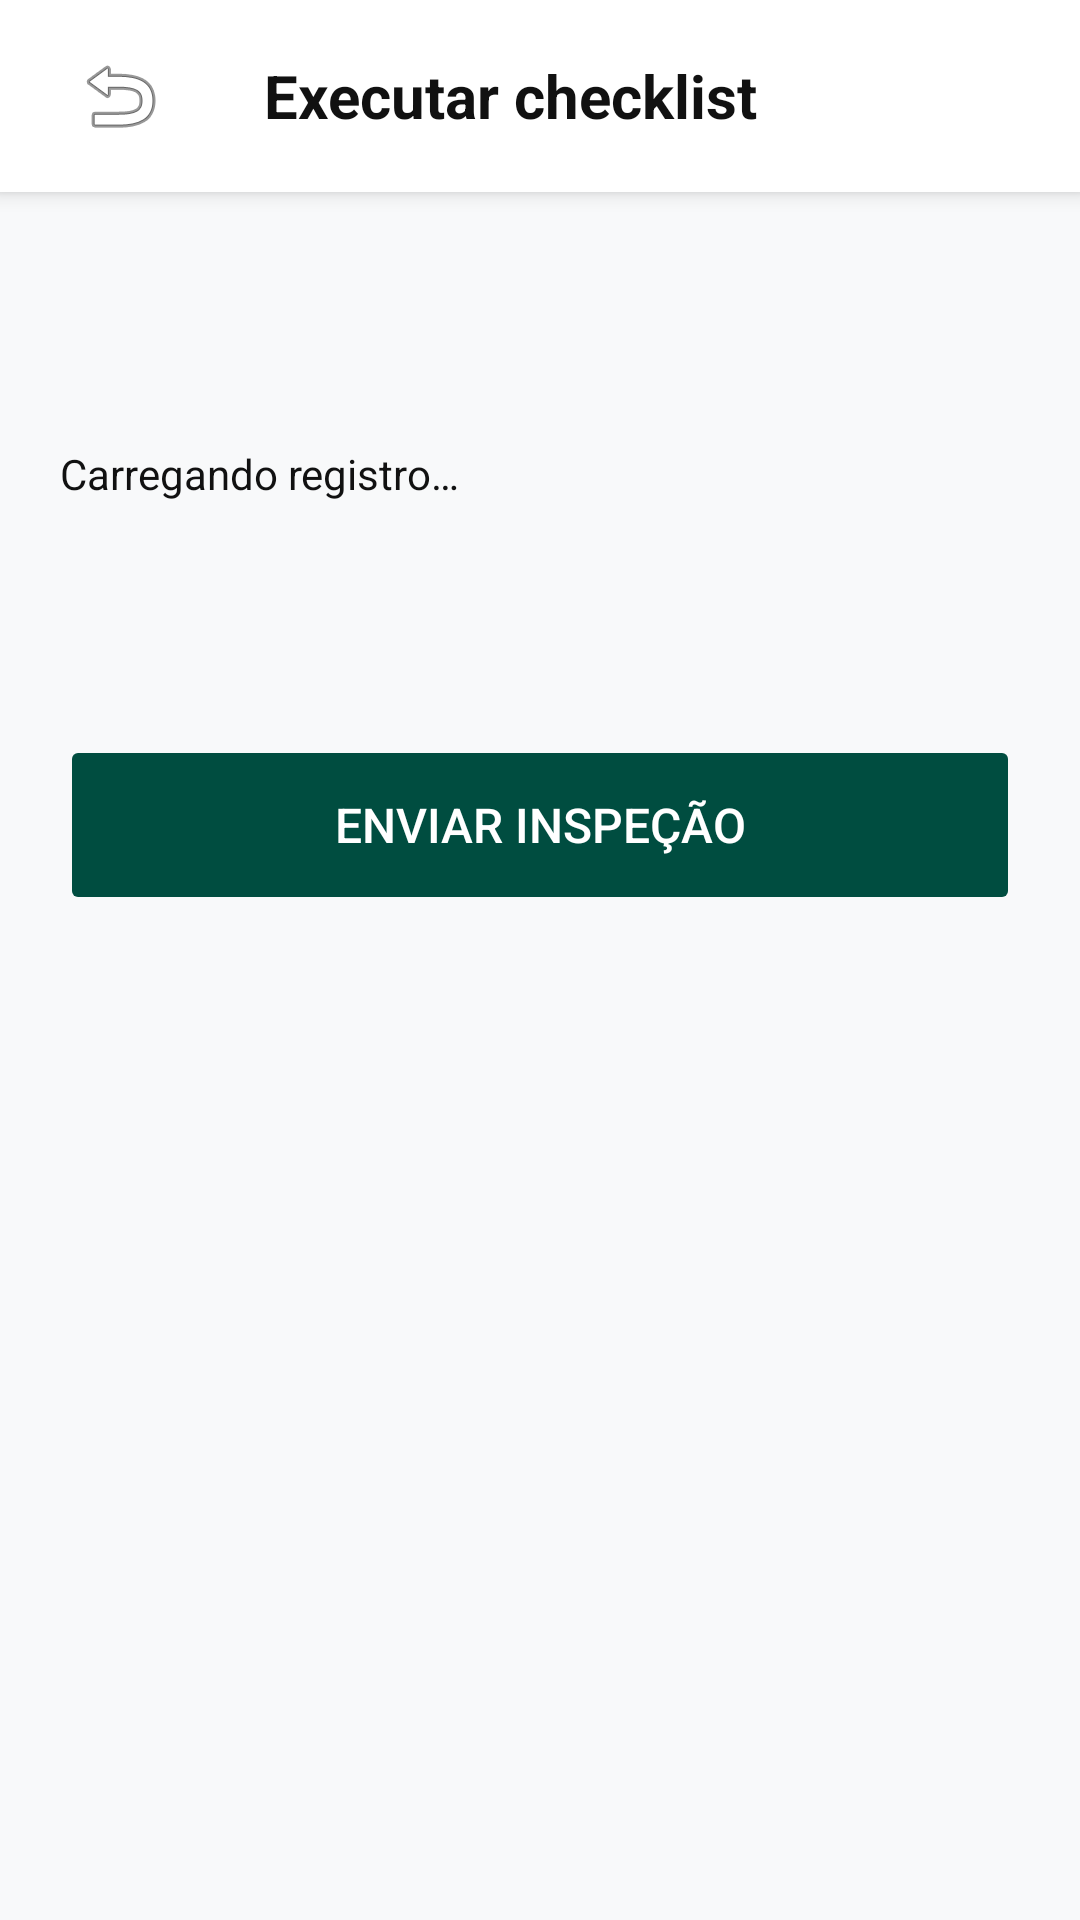

Named icons in this screenshot (1080w x 1920h) and their centers, (x=x, y=y):
Voltar: (x=121, y=96)
